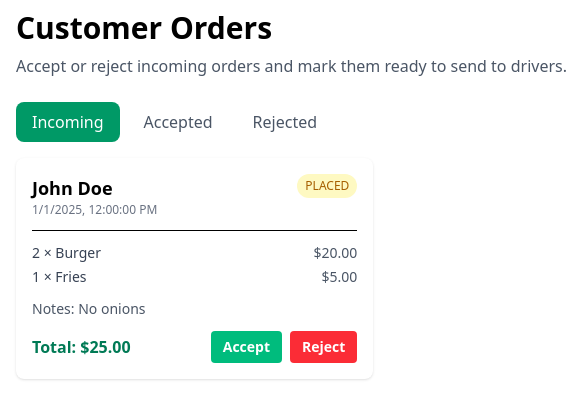
Test case: CustomerOrders › should filter orders by category when switching tabs
Check: the heading "John Doe" is shown, box 32,176 -> 112,200
Check: the text "Jane Smith" is not shown
// Switch to accepted tab
Click the button "Accepted" at [178, 122], box 128,102 -> 229,142
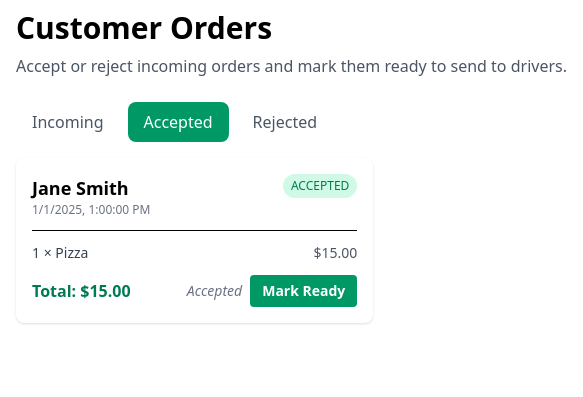
Check: the heading "John Doe" is gone
Check: the heading "Jane Smith" is shown, box 32,176 -> 129,200
// Switch to rejected tab
Click the button "Rejected" at [285, 122], box 237,102 -> 333,142
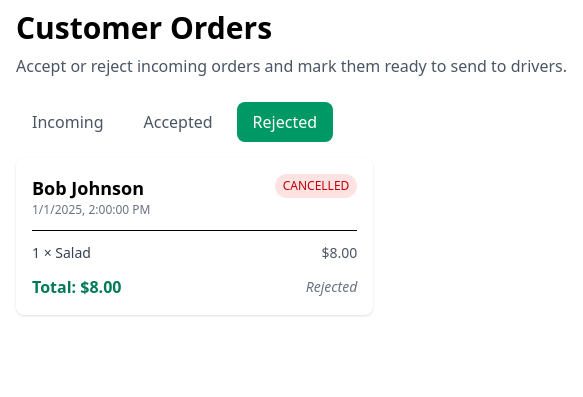
Check: the heading "Jane Smith" is gone
Check: the heading "Bob Johnson" is shown, box 32,174 -> 150,202
